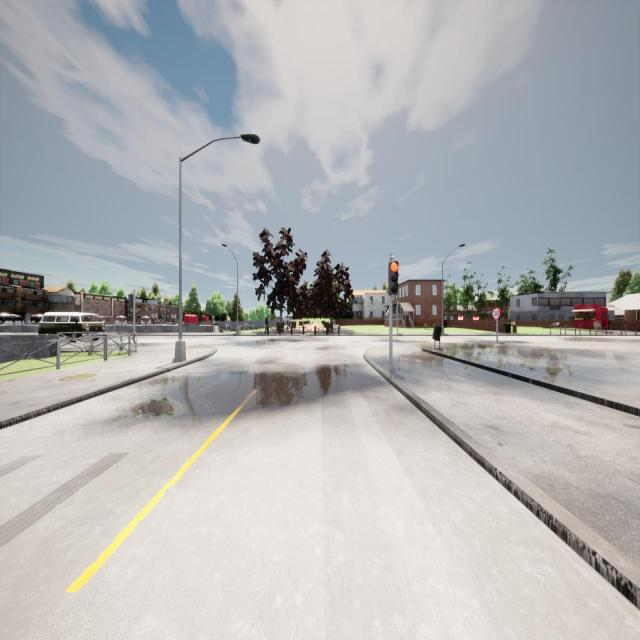Pedestrian: (264, 315, 270, 335)
Traffic_Signs: (492, 308, 500, 320)
Vehicle: (38, 312, 104, 342)
traffic_light: (388, 262, 398, 295), (128, 294, 134, 309)
